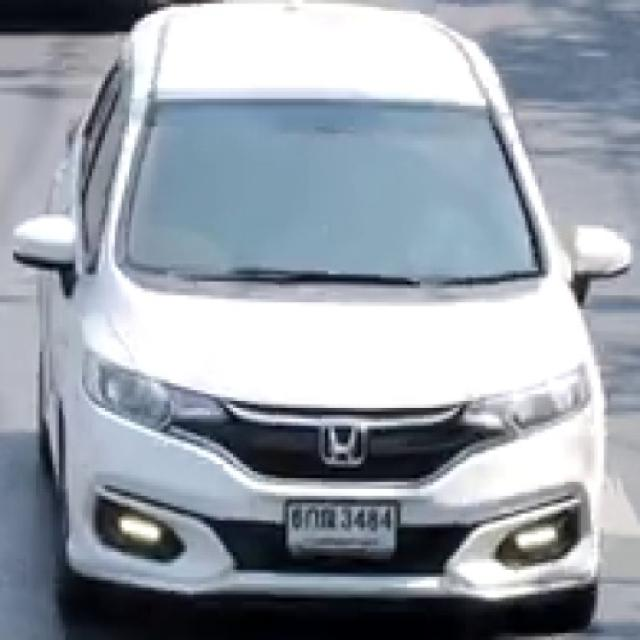plate: (288, 499, 398, 555)
